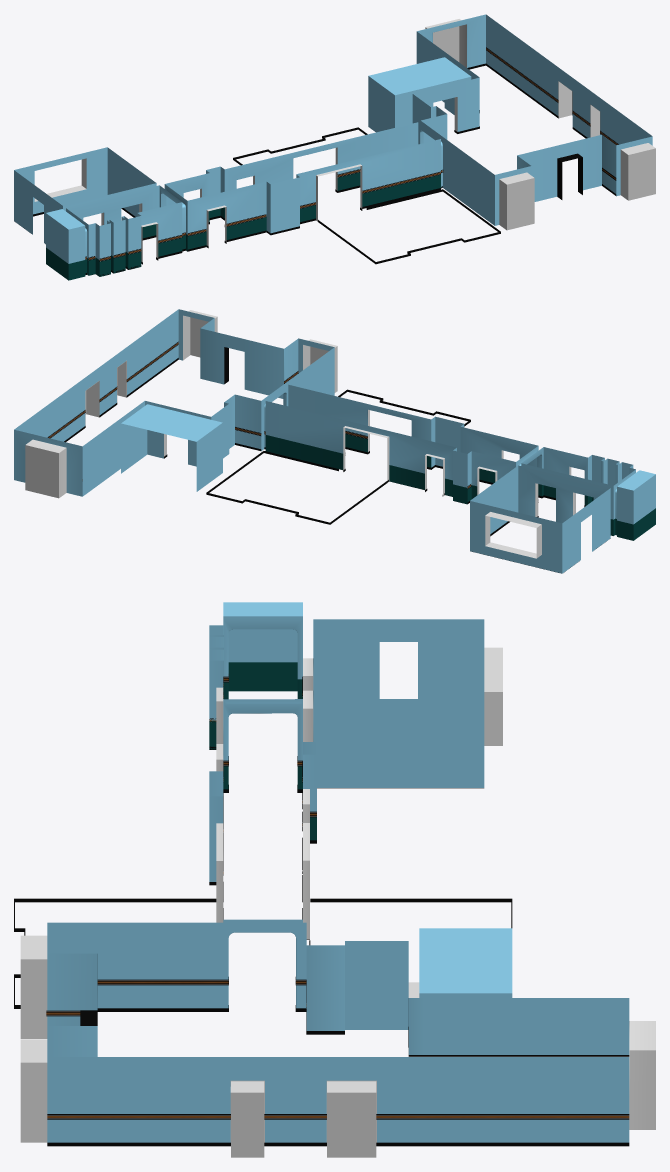
File: plintus_otboynik_stena (1).fbx
3 renders of one model, top to bottom at view 1: azimuth 30°, elevation 25°; view 2: azimuth 150°, elevation 25°; view 3: azimuth 270°, elevation 25°, orthographic. The views are drawn at different scales.
Parts seen in each view (by area): view 1: walls_koridor, walls_reception, Otboinik_reception, Object011; view 2: walls_koridor, walls_reception, Otboinik_reception, Object011; view 3: walls_reception, walls_koridor, Otboinik_reception, Object011.
Part boxes in pixels (bbox=[...]): walls_koridor: bbox=[14, 122, 440, 280]; walls_reception: bbox=[368, 14, 655, 230]; Otboinik_reception: bbox=[14, 63, 616, 276]; Object011: bbox=[85, 47, 618, 261]; walls_koridor: bbox=[265, 384, 655, 573]; walls_reception: bbox=[14, 309, 337, 498]; Otboinik_reception: bbox=[64, 358, 610, 572]; Object011: bbox=[47, 341, 538, 502]; walls_reception: bbox=[20, 919, 655, 1157]; walls_koridor: bbox=[209, 602, 502, 939]; Otboinik_reception: bbox=[14, 746, 629, 1146]; Object011: bbox=[46, 674, 629, 1119].
Size of the model in its own units: 1241 by 111 by 722.
8 materials, 1 textured.
